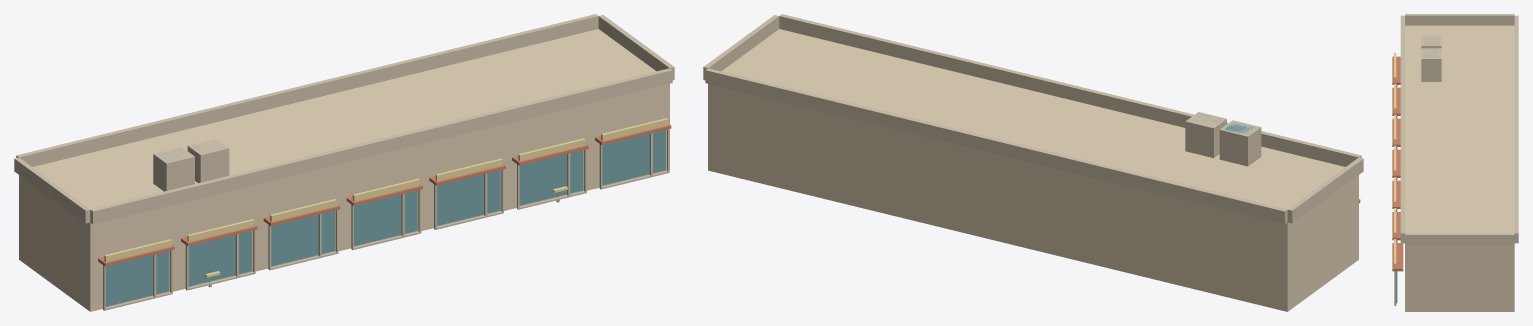
File: commercial_4x1_a.glb
3 views of the same model, side by side, from view 1: azimuth 30°, elevation 25°; view 2: azimuth 150°, elevation 25°; view 3: azimuth 270°, elevation 25° (orthographic). The views are drawn at different scales.
Visible parts, largest first — view 1: commercial_4x1_a_0; view 2: commercial_4x1_a_0; view 3: commercial_4x1_a_0.
Part boxes in pixels (<box>): commercial_4x1_a_0: <box>14,14,674,311</box>; commercial_4x1_a_0: <box>703,14,1363,311</box>; commercial_4x1_a_0: <box>1392,14,1518,311</box>.
Bounding box in the file's own units: 31 × 6 × 7.5.
